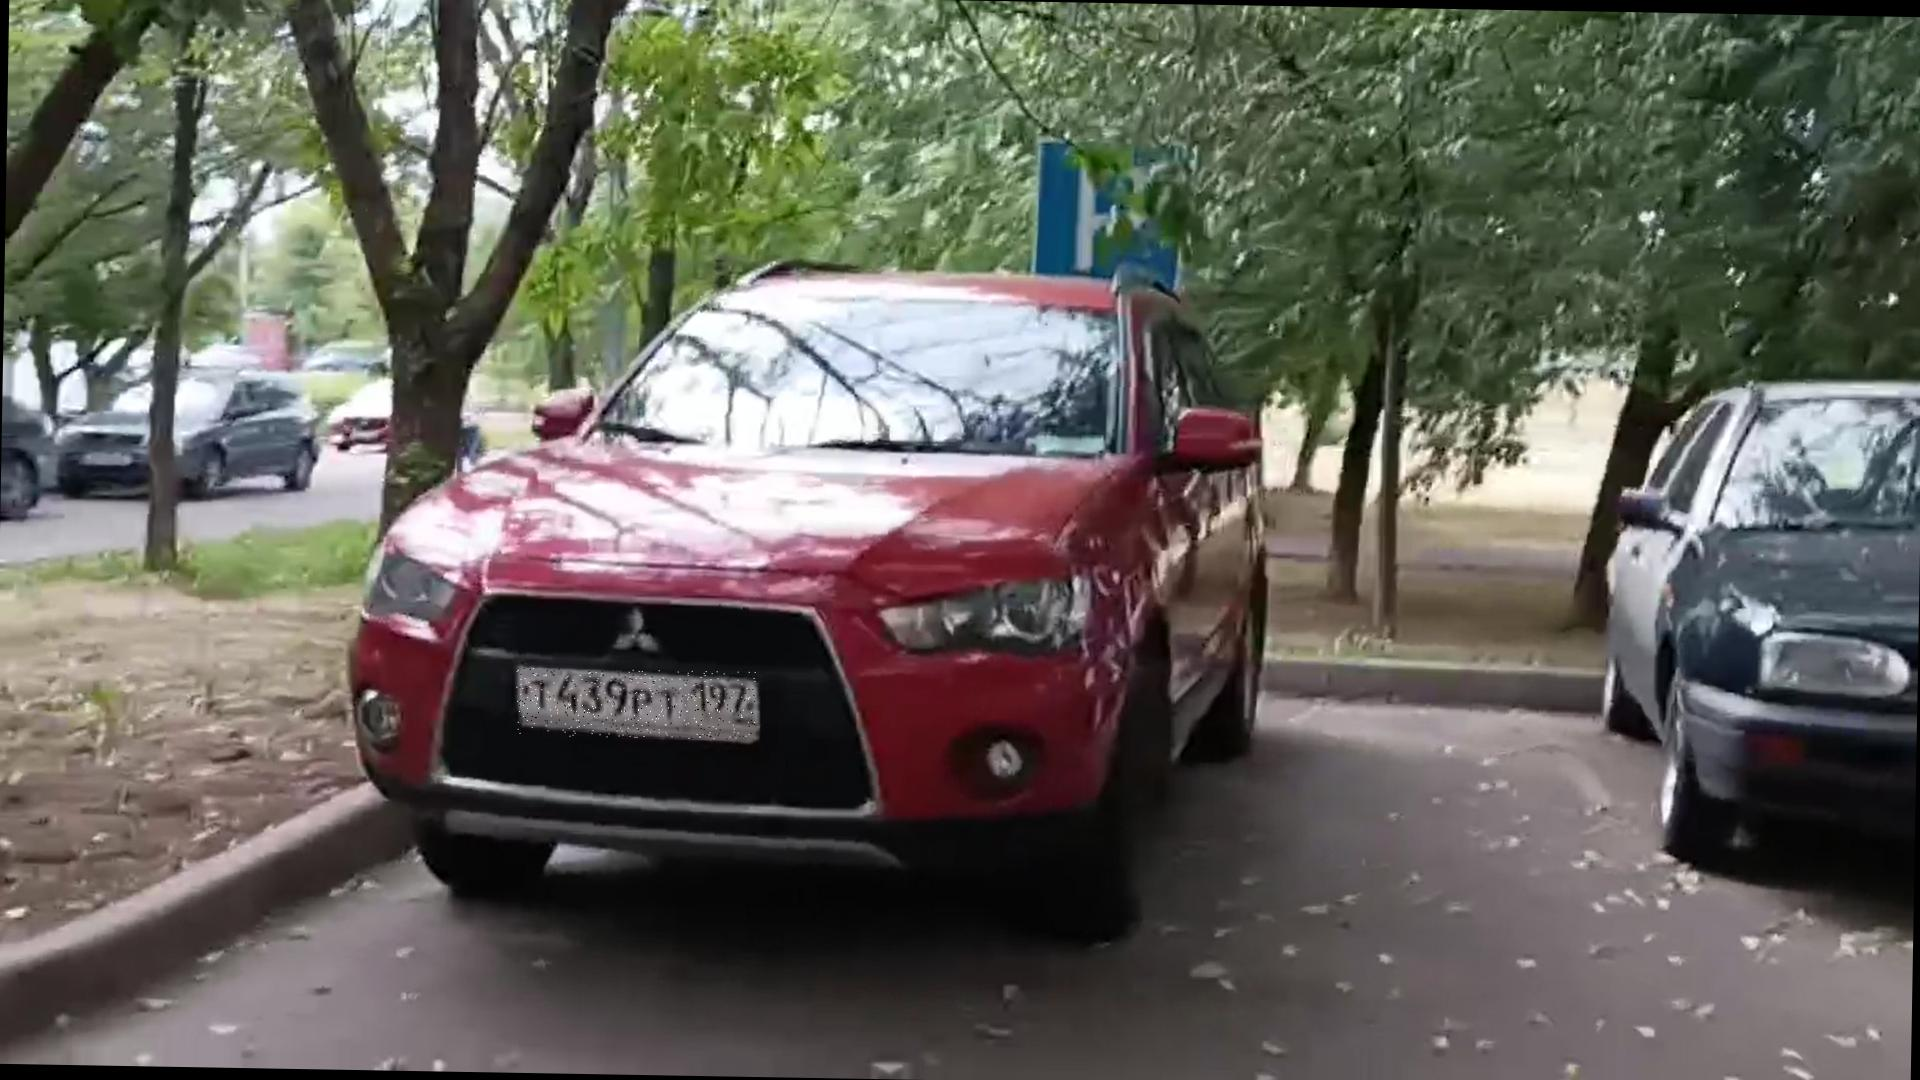plate: (516, 669, 757, 741)
